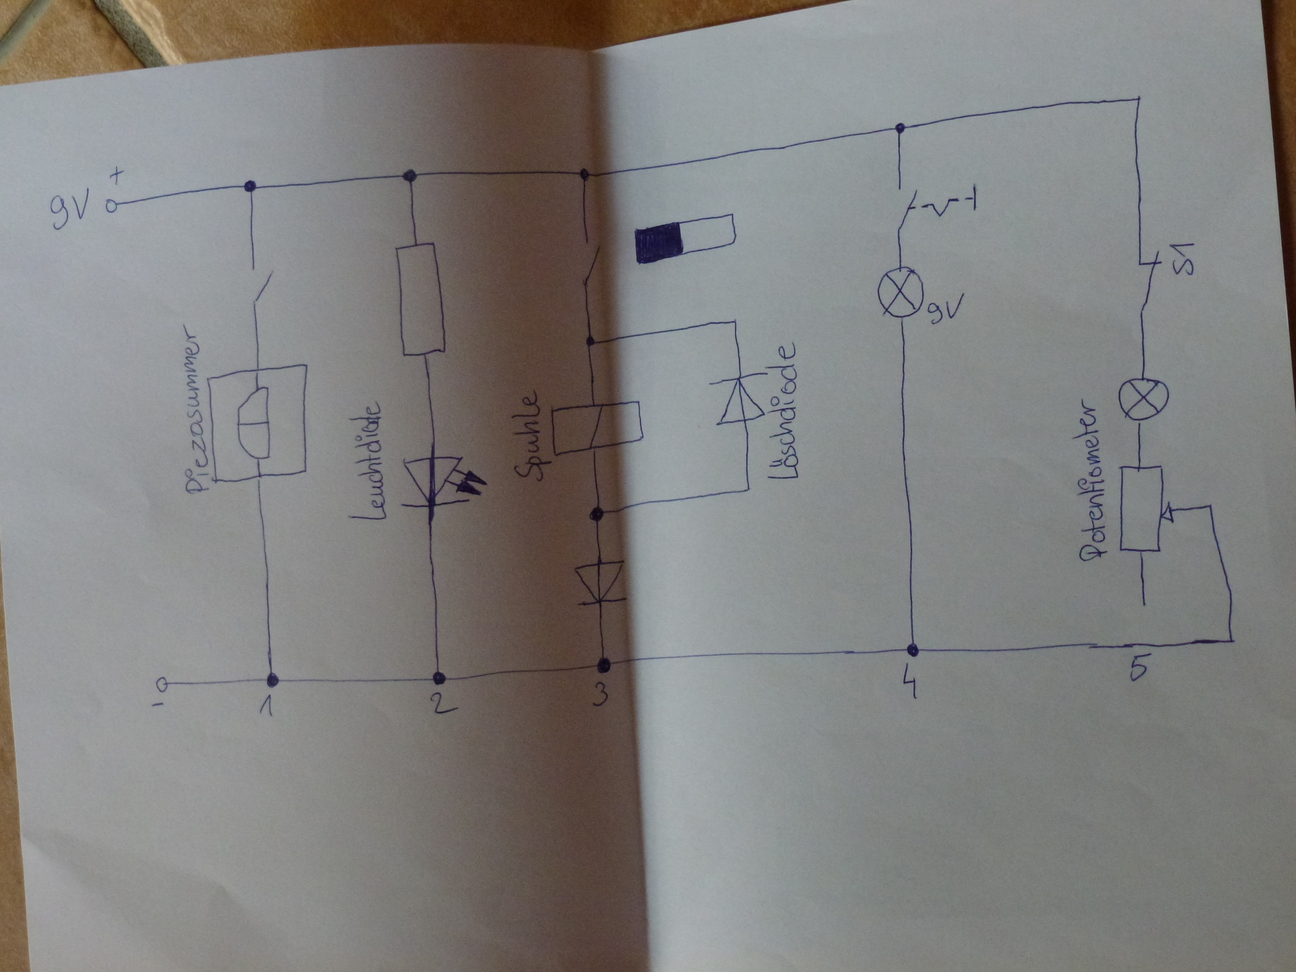diode: (706, 371, 769, 428), (572, 558, 630, 607)
diode.light_emitting: (397, 449, 493, 511)
inductor: (549, 398, 646, 458)
junction: (586, 503, 607, 524), (241, 177, 261, 197), (399, 165, 420, 185), (595, 653, 613, 675), (576, 163, 594, 183), (429, 669, 447, 688), (263, 670, 282, 688), (1223, 631, 1239, 650), (904, 641, 923, 658), (892, 119, 909, 136), (1130, 91, 1146, 107), (583, 333, 597, 349), (728, 314, 741, 328), (741, 483, 753, 494), (1203, 501, 1215, 511)
lamp: (874, 263, 926, 321), (1113, 375, 1172, 425)
resistor: (392, 239, 448, 364)
resistor.adjustable: (1113, 459, 1176, 556)
speaker: (207, 362, 312, 485)
switch: (893, 182, 980, 233), (1137, 249, 1162, 315), (574, 236, 601, 290), (245, 265, 276, 306)
terminal: (152, 674, 175, 695), (101, 195, 121, 215)
text: (1068, 396, 1109, 563), (177, 321, 212, 495), (347, 402, 389, 519), (765, 340, 799, 481), (509, 387, 552, 484), (48, 186, 94, 230), (924, 294, 965, 328), (1166, 243, 1196, 276), (1126, 650, 1154, 684), (427, 689, 458, 718), (900, 663, 919, 701), (590, 679, 609, 710), (255, 694, 275, 718)
